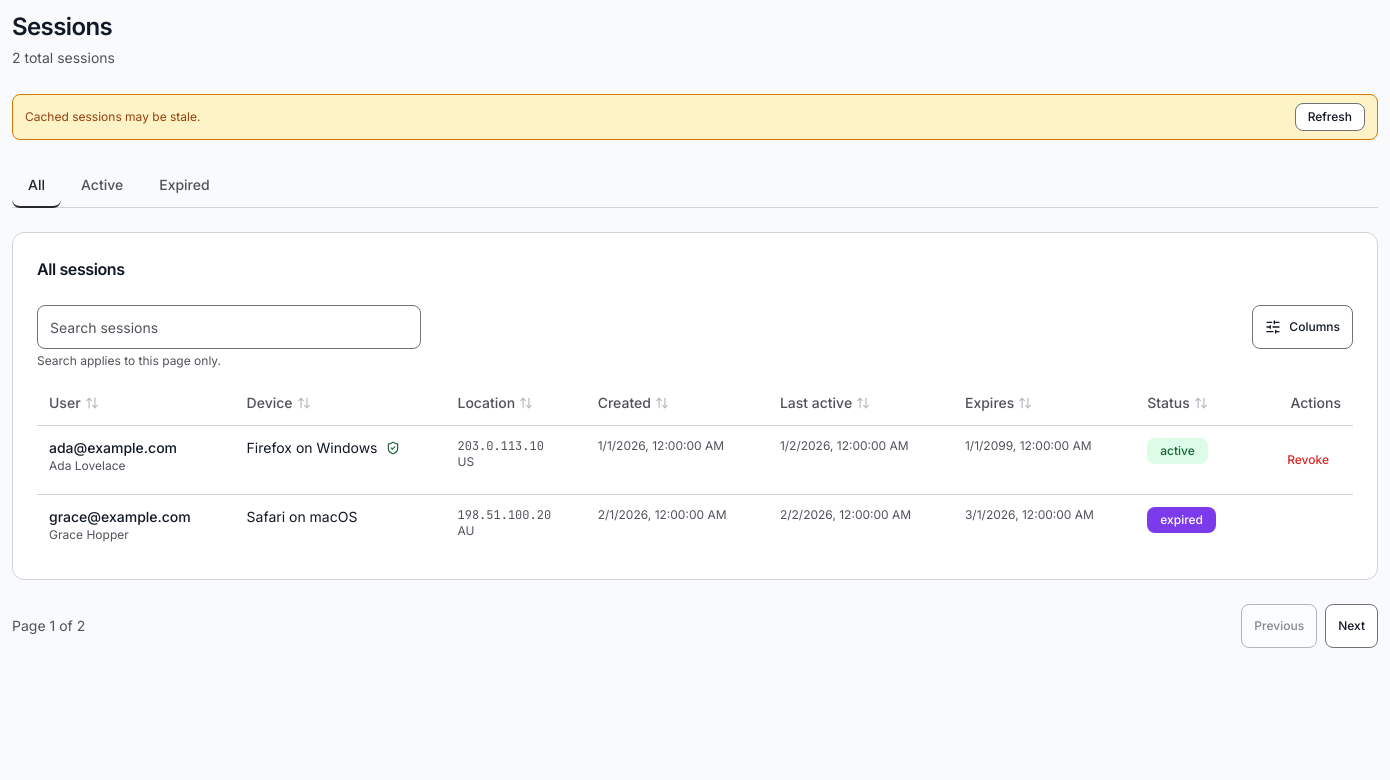
Test case: Admin SessionsPage › searches the sessions loaded on the current page
The width and height of the screenshot is (1390, 780).
expect the text "Ada Lovelace" is shown: met, box top-left (49, 458), bottom-right (126, 472)
Step 1. Type "safari" into the search field labelled "Search sessions" → coordinates (229, 327), box top-left (37, 305), bottom-right (421, 349)
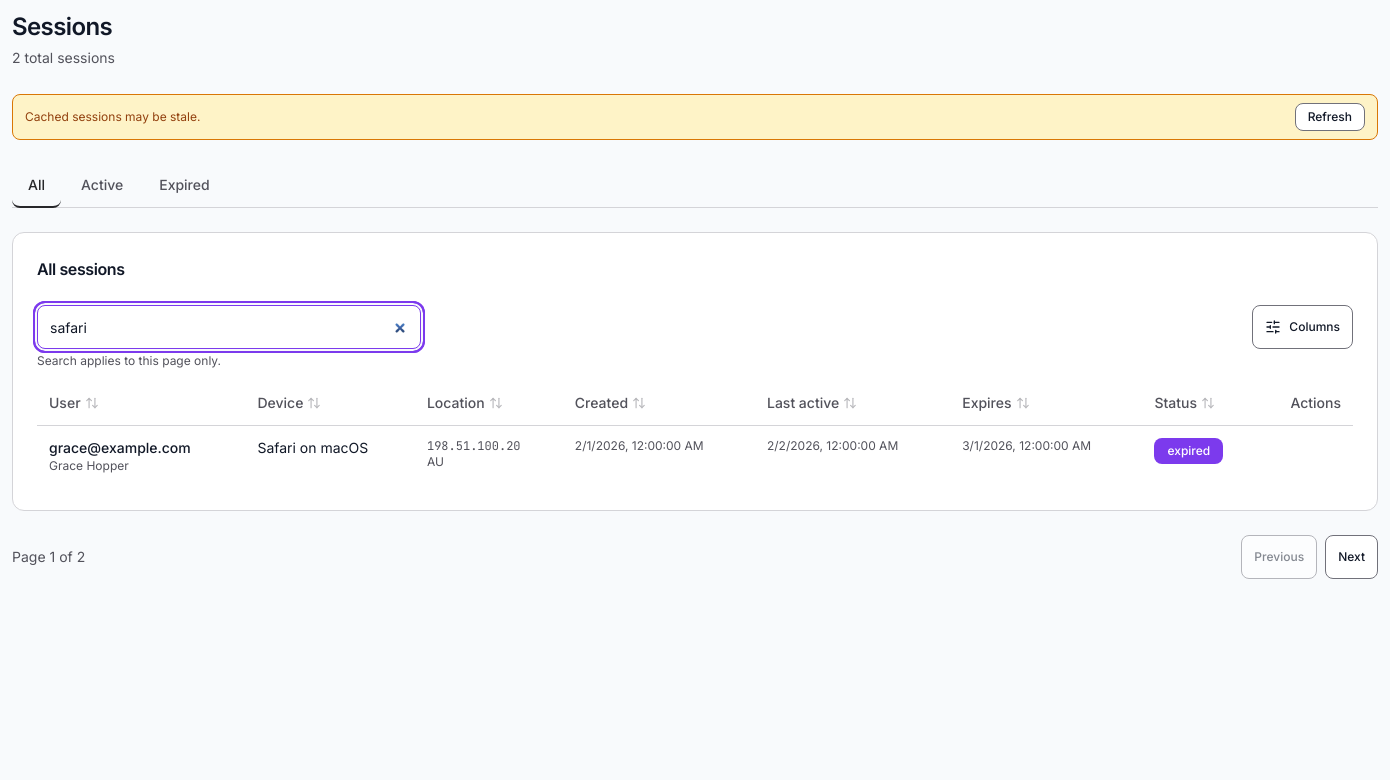
expect the text "Grace Hopper" is shown: met, box top-left (49, 458), bottom-right (129, 472)
expect the text "Ada Lovelace" is gone: met
